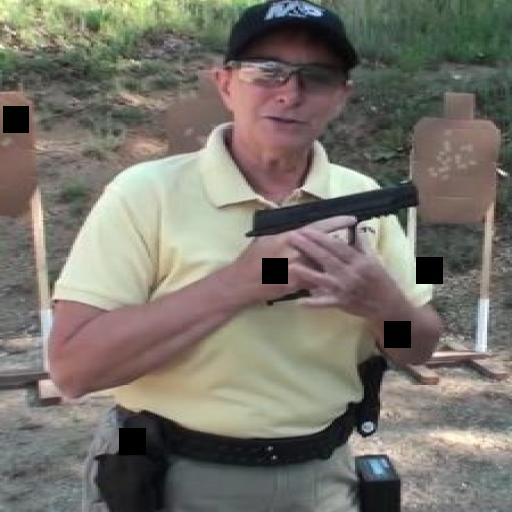Handgun: (244, 180, 416, 300)
